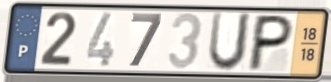2: (39, 10, 80, 69)
3: (166, 11, 207, 73)
4: (84, 10, 116, 69)
7: (127, 11, 166, 71)
P: (245, 13, 297, 74)
U: (206, 10, 255, 74)
